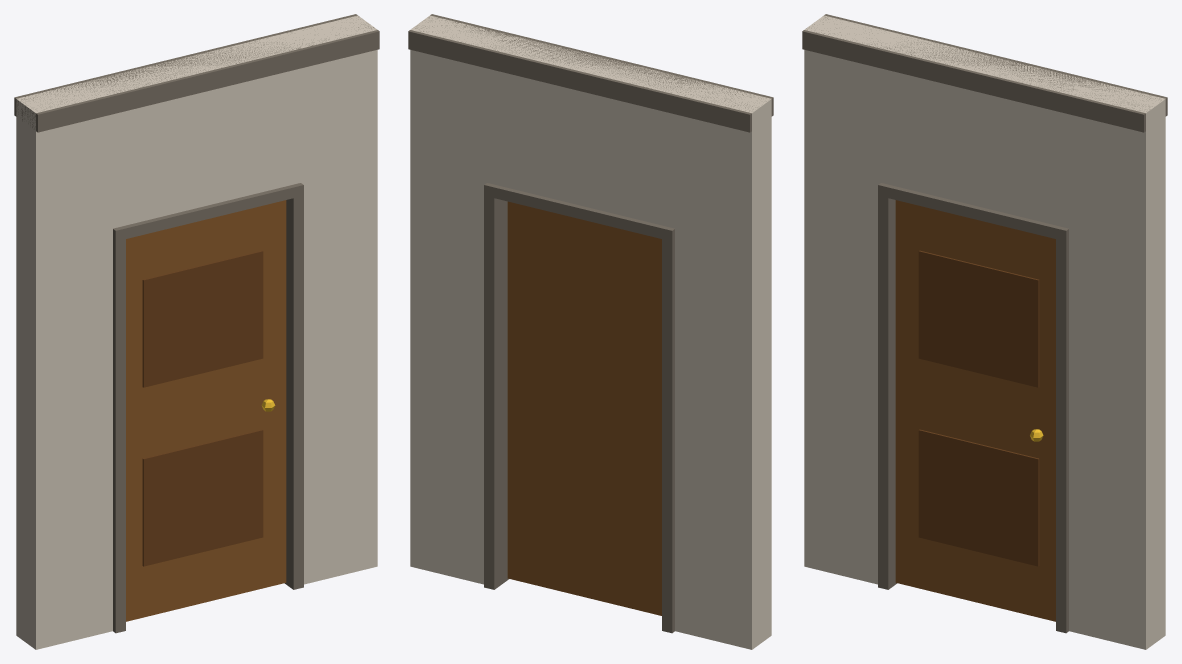
File: wall_plaster_door.glb
3 renders of one model, left to right at view 1: azimuth 30°, elevation 25°; view 2: azimuth 150°, elevation 25°; view 3: azimuth 330°, elevation 25°, orthographic.
Parts seen in each view (by area): view 1: wall_plaster_door; view 2: wall_plaster_door; view 3: wall_plaster_door.
Part boxes in pixels (bbox=[...]): wall_plaster_door: bbox=[14, 14, 379, 649]; wall_plaster_door: bbox=[408, 14, 773, 649]; wall_plaster_door: bbox=[802, 14, 1167, 649].
Size of the model in its own units: 2 by 3 by 0.265.
